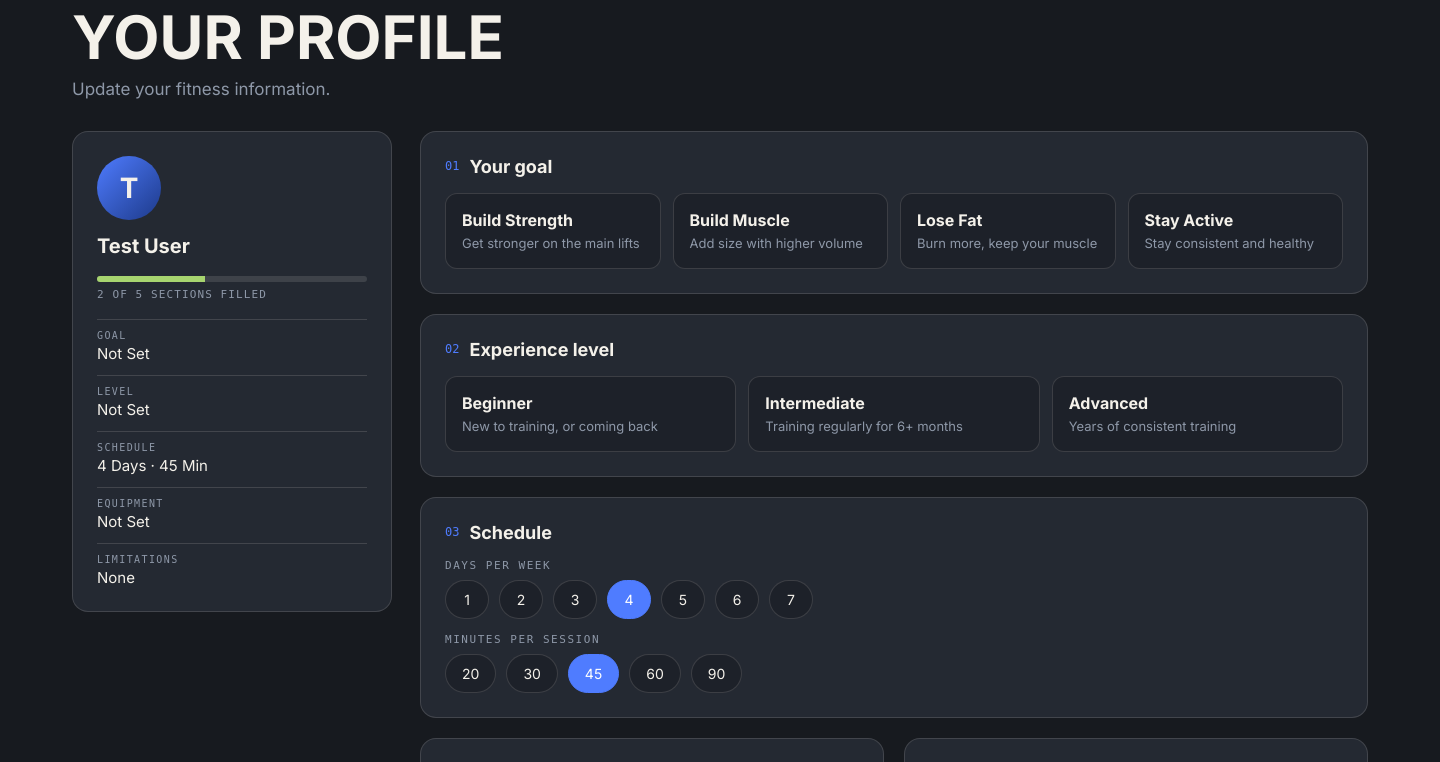
Scenario: Profile Form › saves the selected profile information
The width and height of the screenshot is (1440, 762).
Click the button "Build strength Get stronger on the main lifts" at (553, 231), box [445, 192, 660, 269]
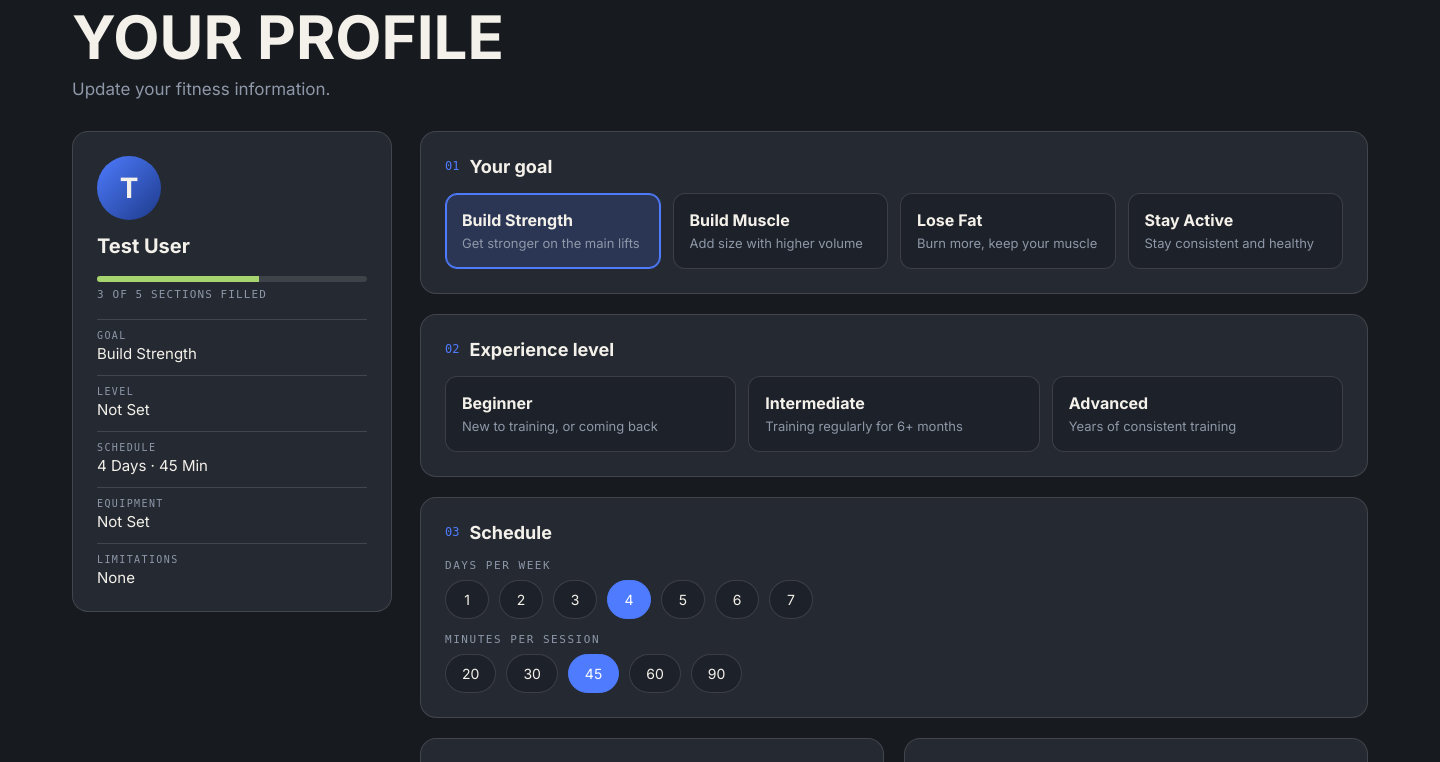
Click the button "beginner New to training, or coming back" at (497, 403), box [445, 376, 736, 452]
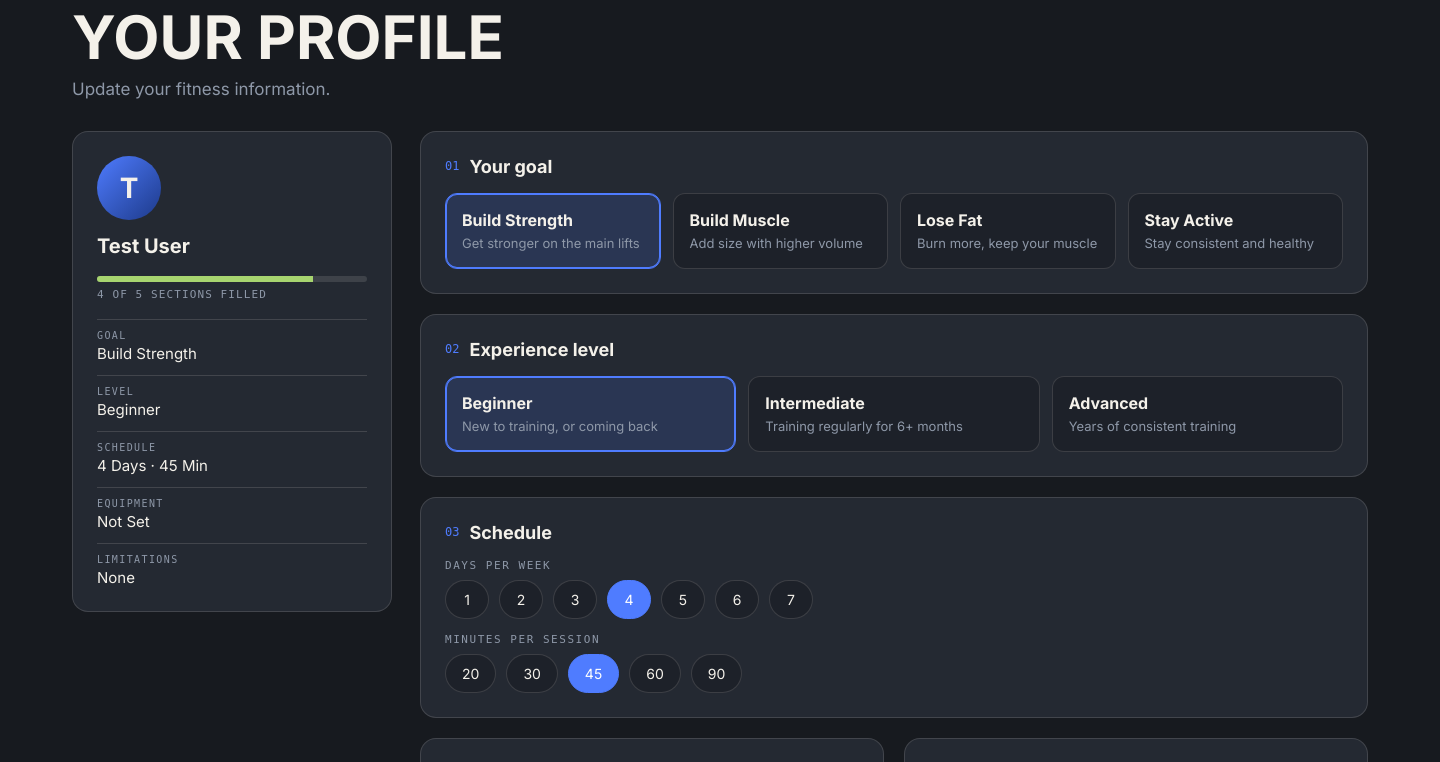
Click the button "3" at (575, 599), box [553, 580, 597, 619]
(page scrolled)
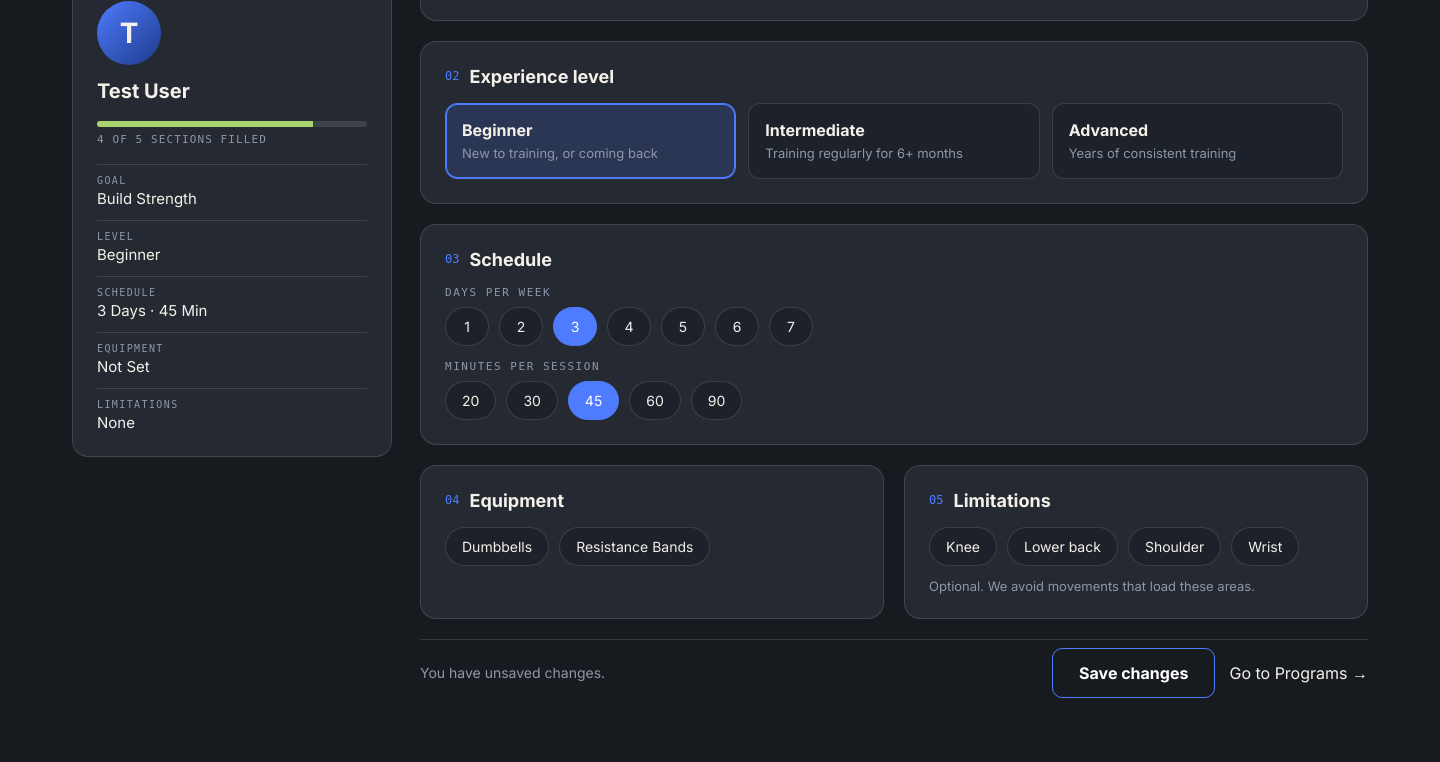
Click the button "Dumbbells" at (497, 546), box [445, 527, 549, 566]
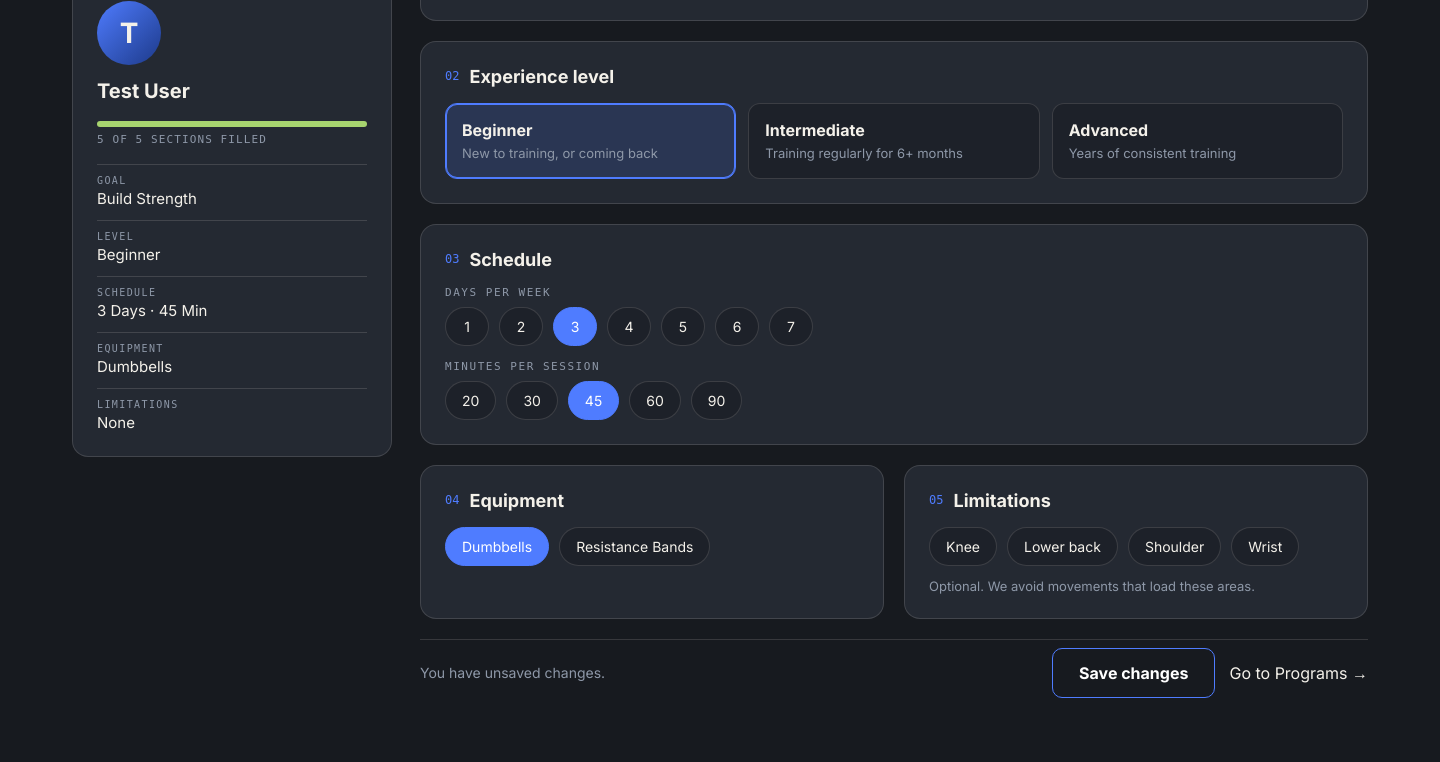
Click the button "Save changes" at (1134, 673), box [1052, 648, 1215, 698]
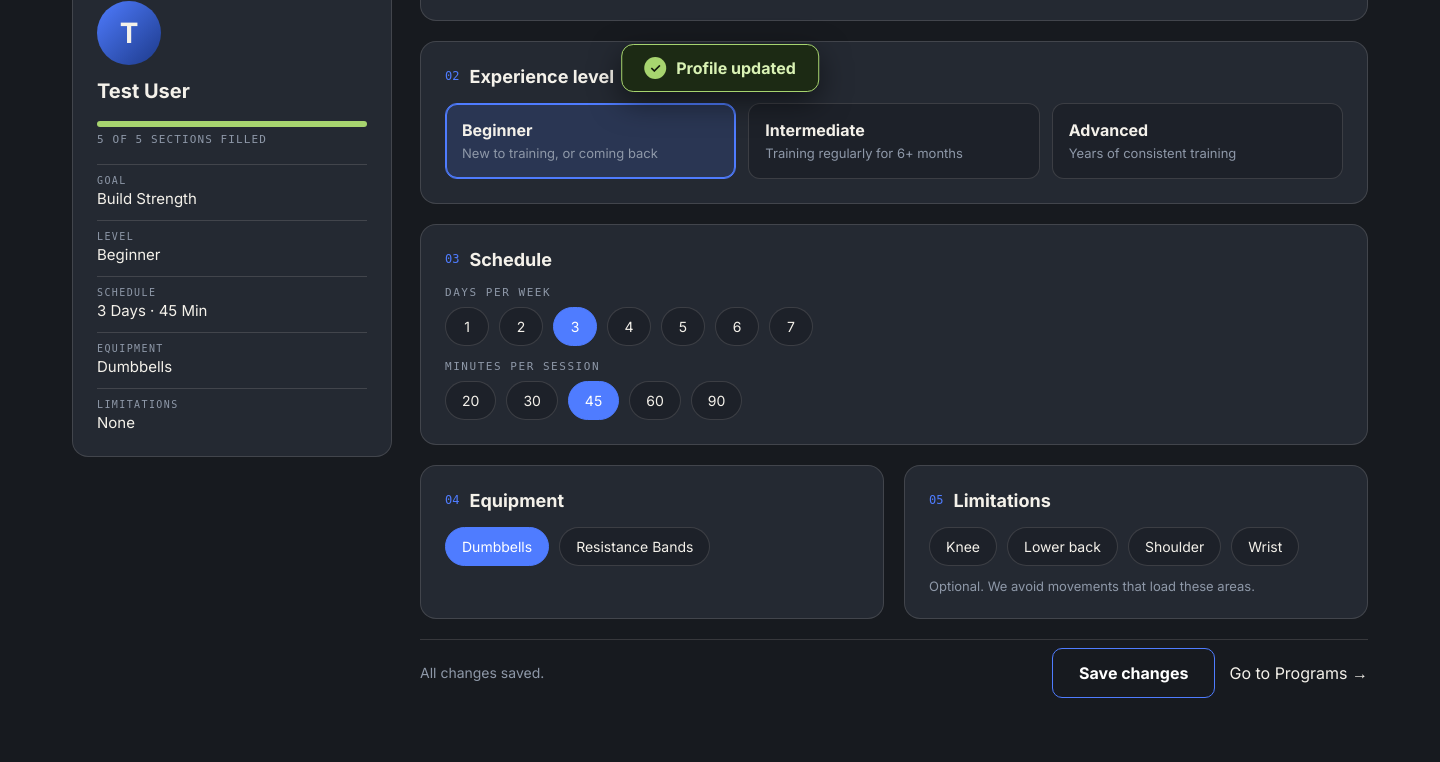
expect the text "All changes saved." is shown: met, box [420, 664, 544, 681]
